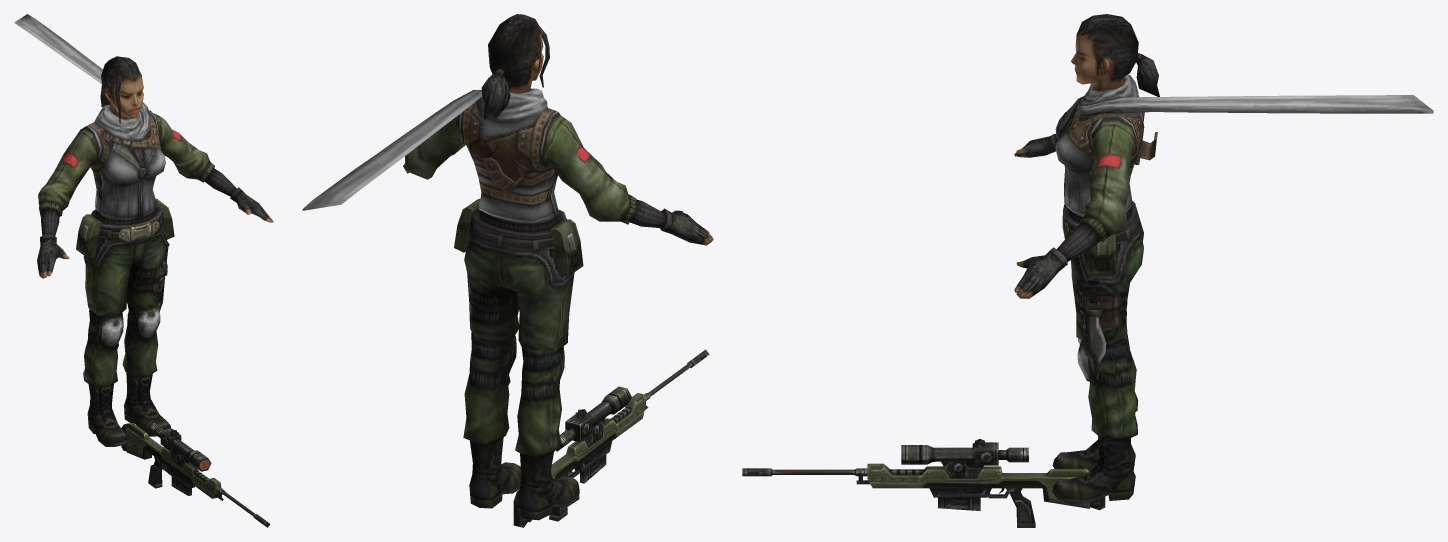
File: au_commando.fbx
3 renders of one model, left to right at view 1: azimuth 30°, elevation 25°; view 2: azimuth 150°, elevation 25°; view 3: azimuth 270°, elevation 25°, orthographic. The views are drawn at different scales.
Parts seen in each view (by area): view 1: u_commando, u_awp; view 2: u_commando, u_awp; view 3: u_commando, u_awp.
Part boxes in pixels (box(x1,y1,x2,y2)): u_commando: box(14, 14, 273, 446); u_awp: box(121, 422, 270, 527); u_commando: box(302, 14, 713, 520); u_awp: box(513, 349, 709, 527); u_commando: box(1014, 14, 1433, 503); u_awp: box(742, 439, 1105, 527).
Size of the model in its own units: 65.17 by 108 by 133.
2 materials, 2 textured.
